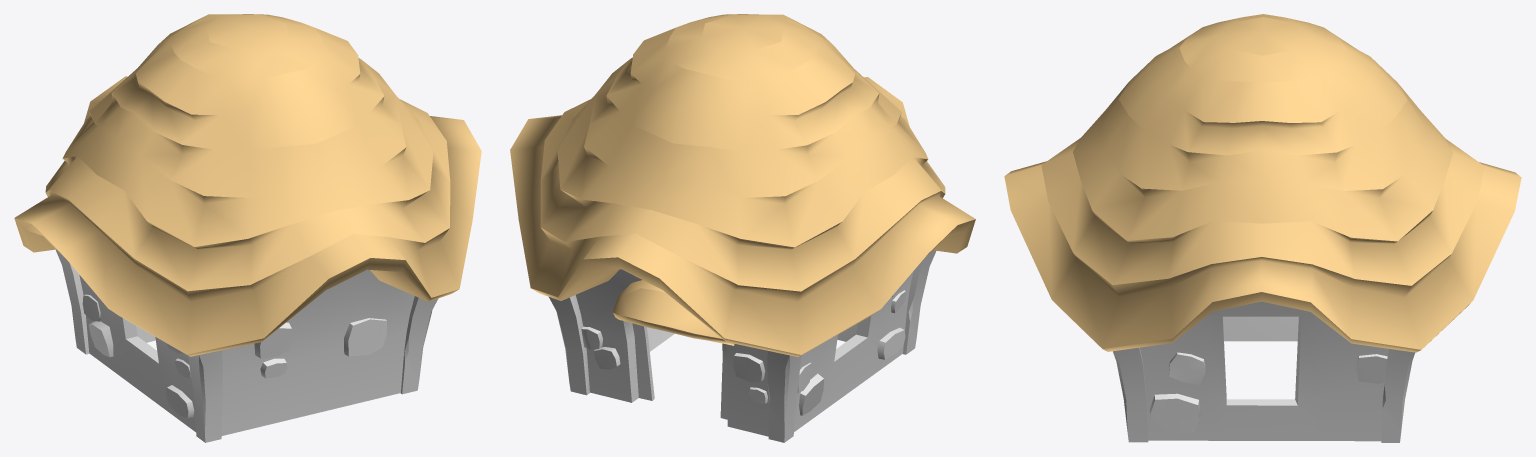
File: Sketchfab_2017_11_01_01_57_39.fbx
The picture shows the model from 3 angles, left to right: view 1: azimuth 30°, elevation 25°; view 2: azimuth 150°, elevation 25°; view 3: azimuth 270°, elevation 25°; orthographic projection. The views are drawn at different scales.
Parts seen in each view (by area): view 1: hut_roof, hut_walls; view 2: hut_roof, hut_walls, Cube.016; view 3: hut_roof, hut_walls.
Boxes of the visible parts, x1,y1,x2,y2 form: hut_roof: (14, 14, 481, 356); hut_walls: (56, 249, 438, 442); hut_roof: (510, 14, 975, 357); hut_walls: (549, 250, 936, 442); Cube.016: (613, 280, 734, 345); hut_roof: (1004, 14, 1521, 352); hut_walls: (1113, 301, 1414, 442).
Size of the model in its own units: 676 by 512 by 673.
